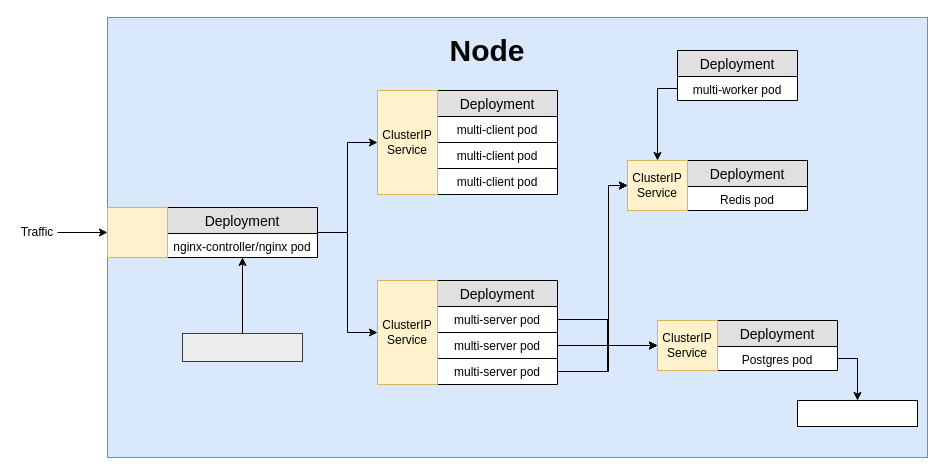
The diagram is 945 pixels wide and 475 high, and some of its shapes have lost their labels. Each missing label, with the centre of its shape:
"Ingress Config" goes at point 242,347.
"Load Balancer Service" goes at point 137,232.
"Postgres PVC" goes at point 857,413.
